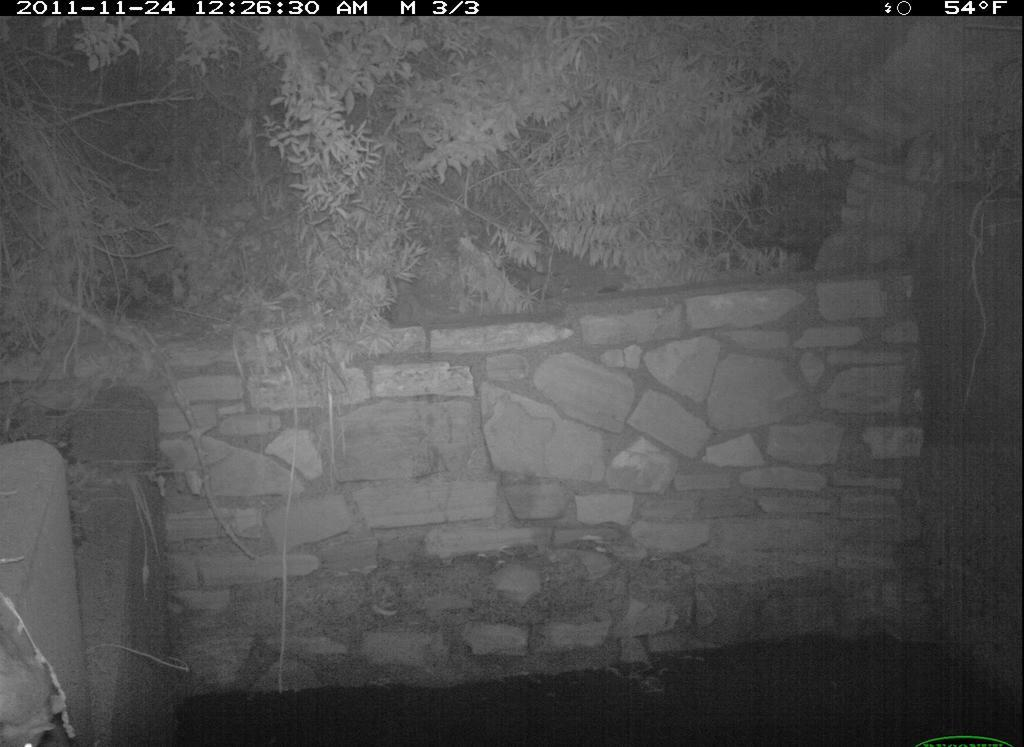rodent: (3, 635, 71, 747)
